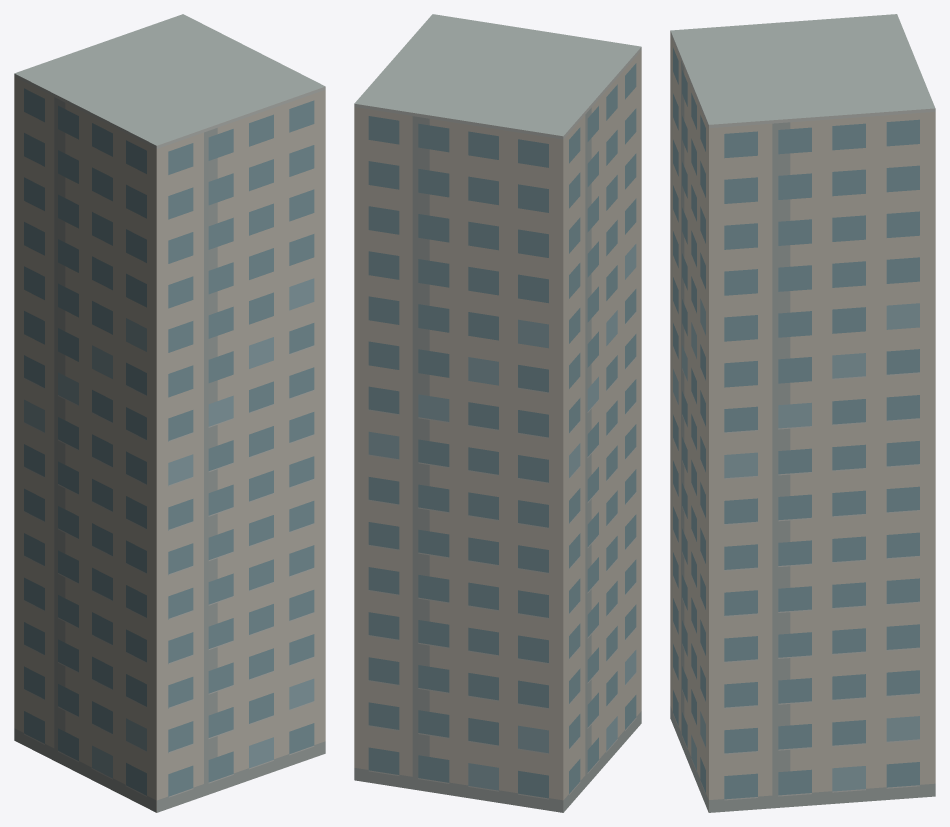
File: residential-0dcb9b7b-8baa-475b-a60b-11eac65b2ef5.glb
The picture shows the model from 3 angles, left to right: view 1: azimuth 30°, elevation 25°; view 2: azimuth 150°, elevation 25°; view 3: azimuth 270°, elevation 25°; orthographic projection. The views are drawn at different scales.
Visible parts, largest first — view 1: residential-0dcb9b7b-8baa-475b-a60b-11eac65b2ef5.tmp; view 2: residential-0dcb9b7b-8baa-475b-a60b-11eac65b2ef5.tmp; view 3: residential-0dcb9b7b-8baa-475b-a60b-11eac65b2ef5.tmp.
Part boxes in pixels (<box>): residential-0dcb9b7b-8baa-475b-a60b-11eac65b2ef5.tmp: <box>14,14,325,812</box>; residential-0dcb9b7b-8baa-475b-a60b-11eac65b2ef5.tmp: <box>354,14,641,812</box>; residential-0dcb9b7b-8baa-475b-a60b-11eac65b2ef5.tmp: <box>670,14,935,812</box>.
Bounding box in the file's own units: 17.28 × 50 × 17.47.
